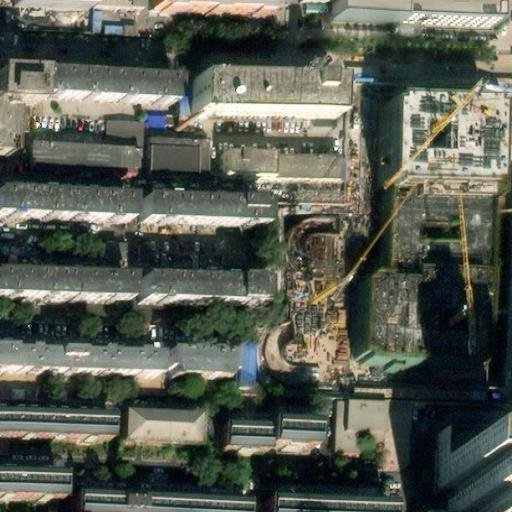building: (391, 183, 502, 388), (396, 97, 507, 190), (191, 81, 336, 128), (365, 264, 433, 362), (0, 350, 165, 388), (147, 274, 272, 311), (0, 405, 112, 445), (148, 192, 275, 227), (84, 487, 253, 512), (30, 135, 144, 171), (226, 148, 346, 182), (432, 458, 505, 512), (271, 487, 405, 512), (335, 399, 388, 460), (128, 405, 209, 440), (171, 337, 240, 370), (151, 136, 212, 173), (0, 474, 65, 504), (277, 411, 326, 443), (230, 423, 278, 448), (0, 103, 20, 158), (237, 341, 261, 386), (78, 0, 146, 14), (104, 120, 145, 142), (436, 481, 446, 498)
